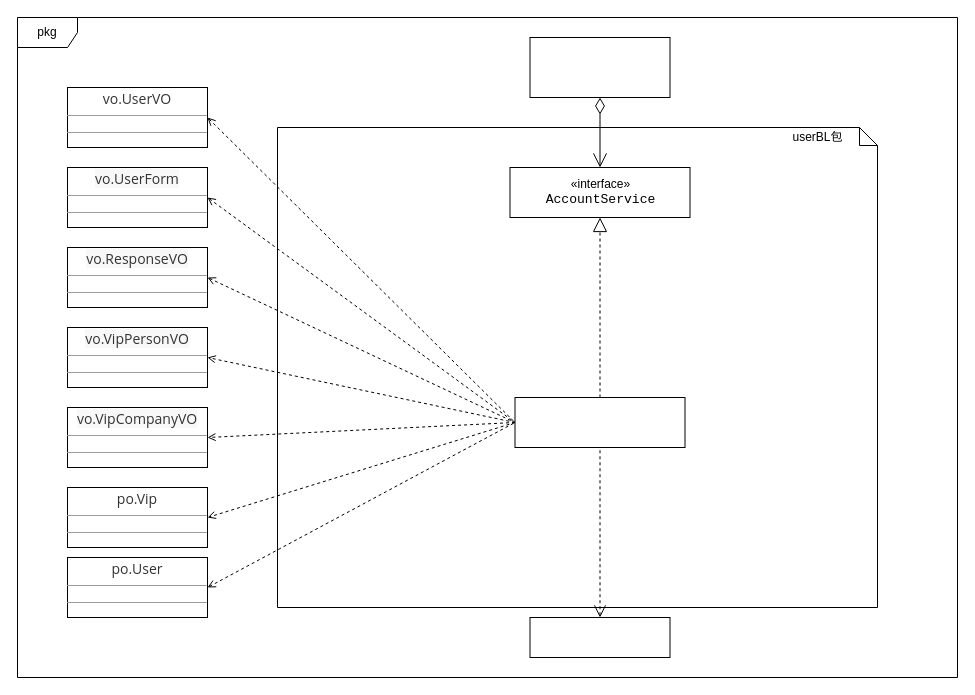
Some shapes in this 975 by 695 pixel diagram are drawn without their labels. Each missing label, with the centre of its shape:
AccountController: (599,67)
AccountMapper: (599,637)
AccountServiceImpl: (599,422)
